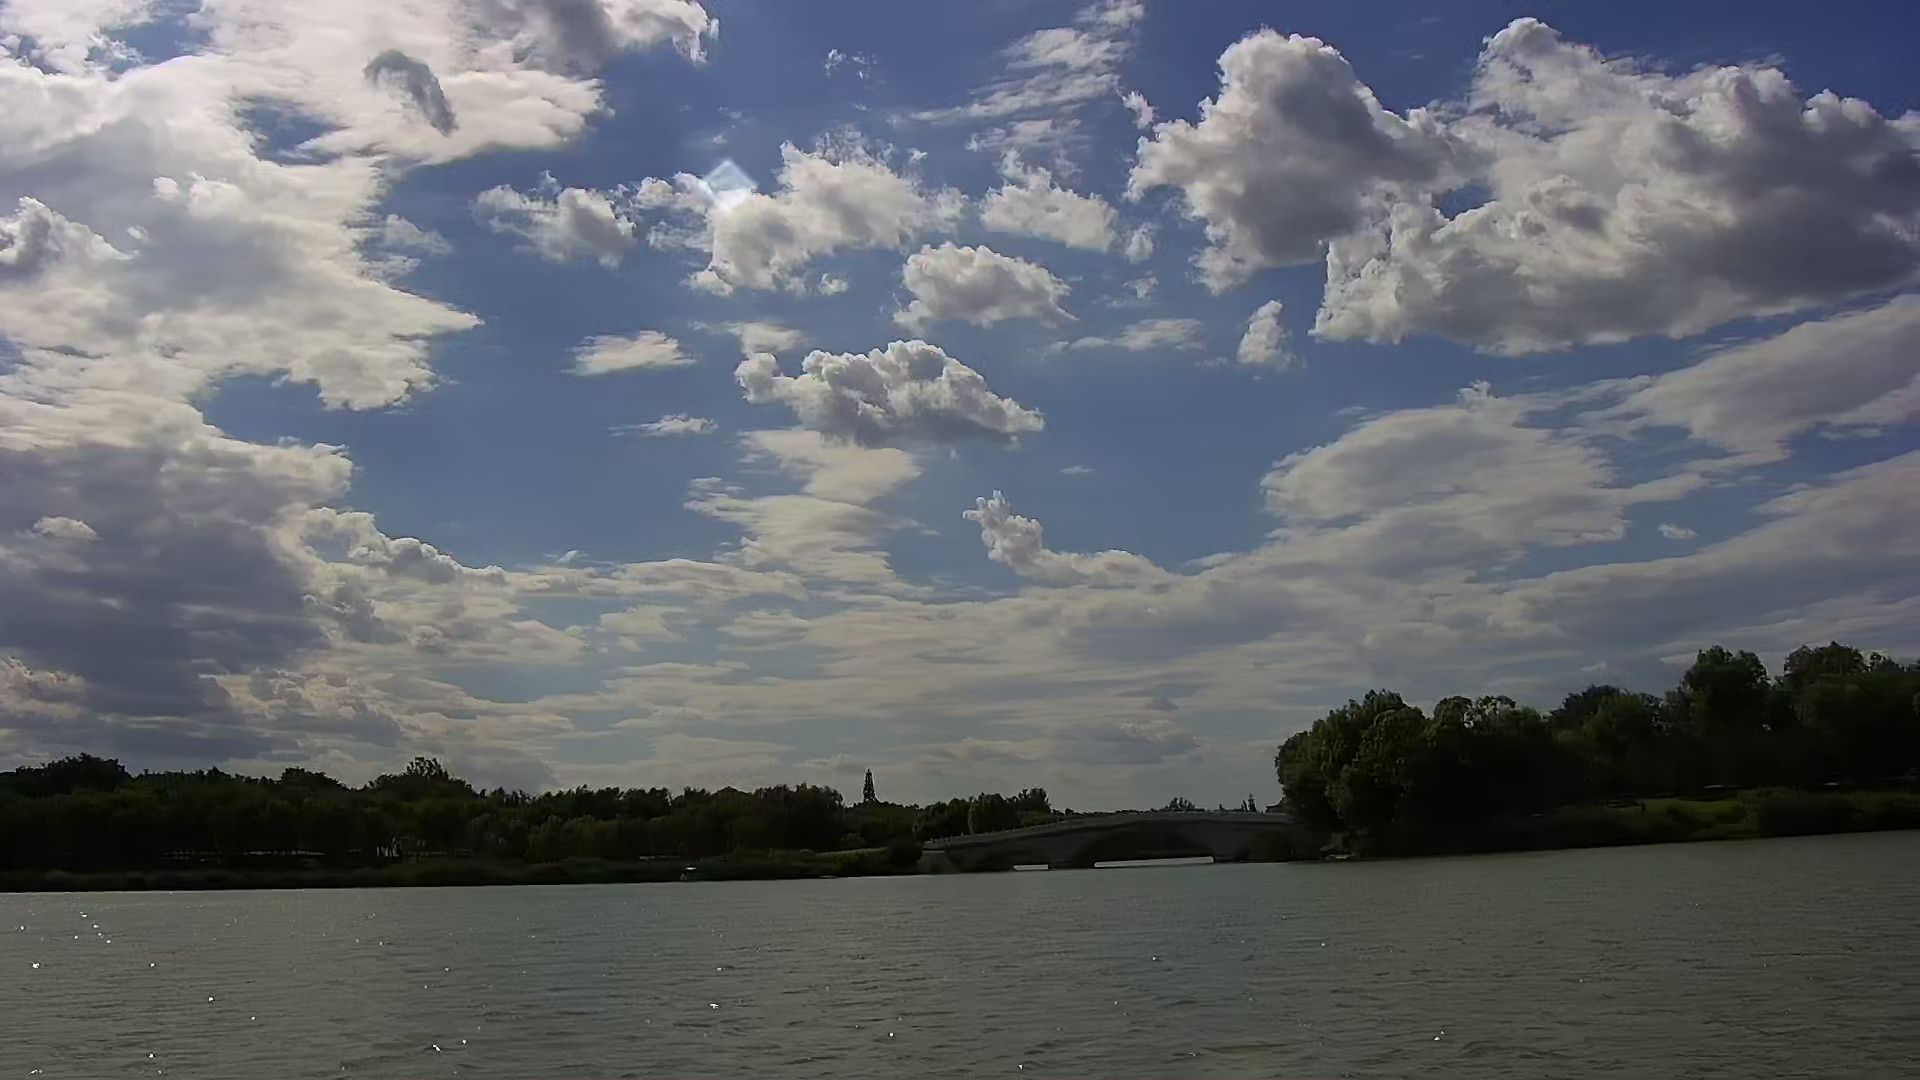bridge: (918, 800, 1283, 869)
